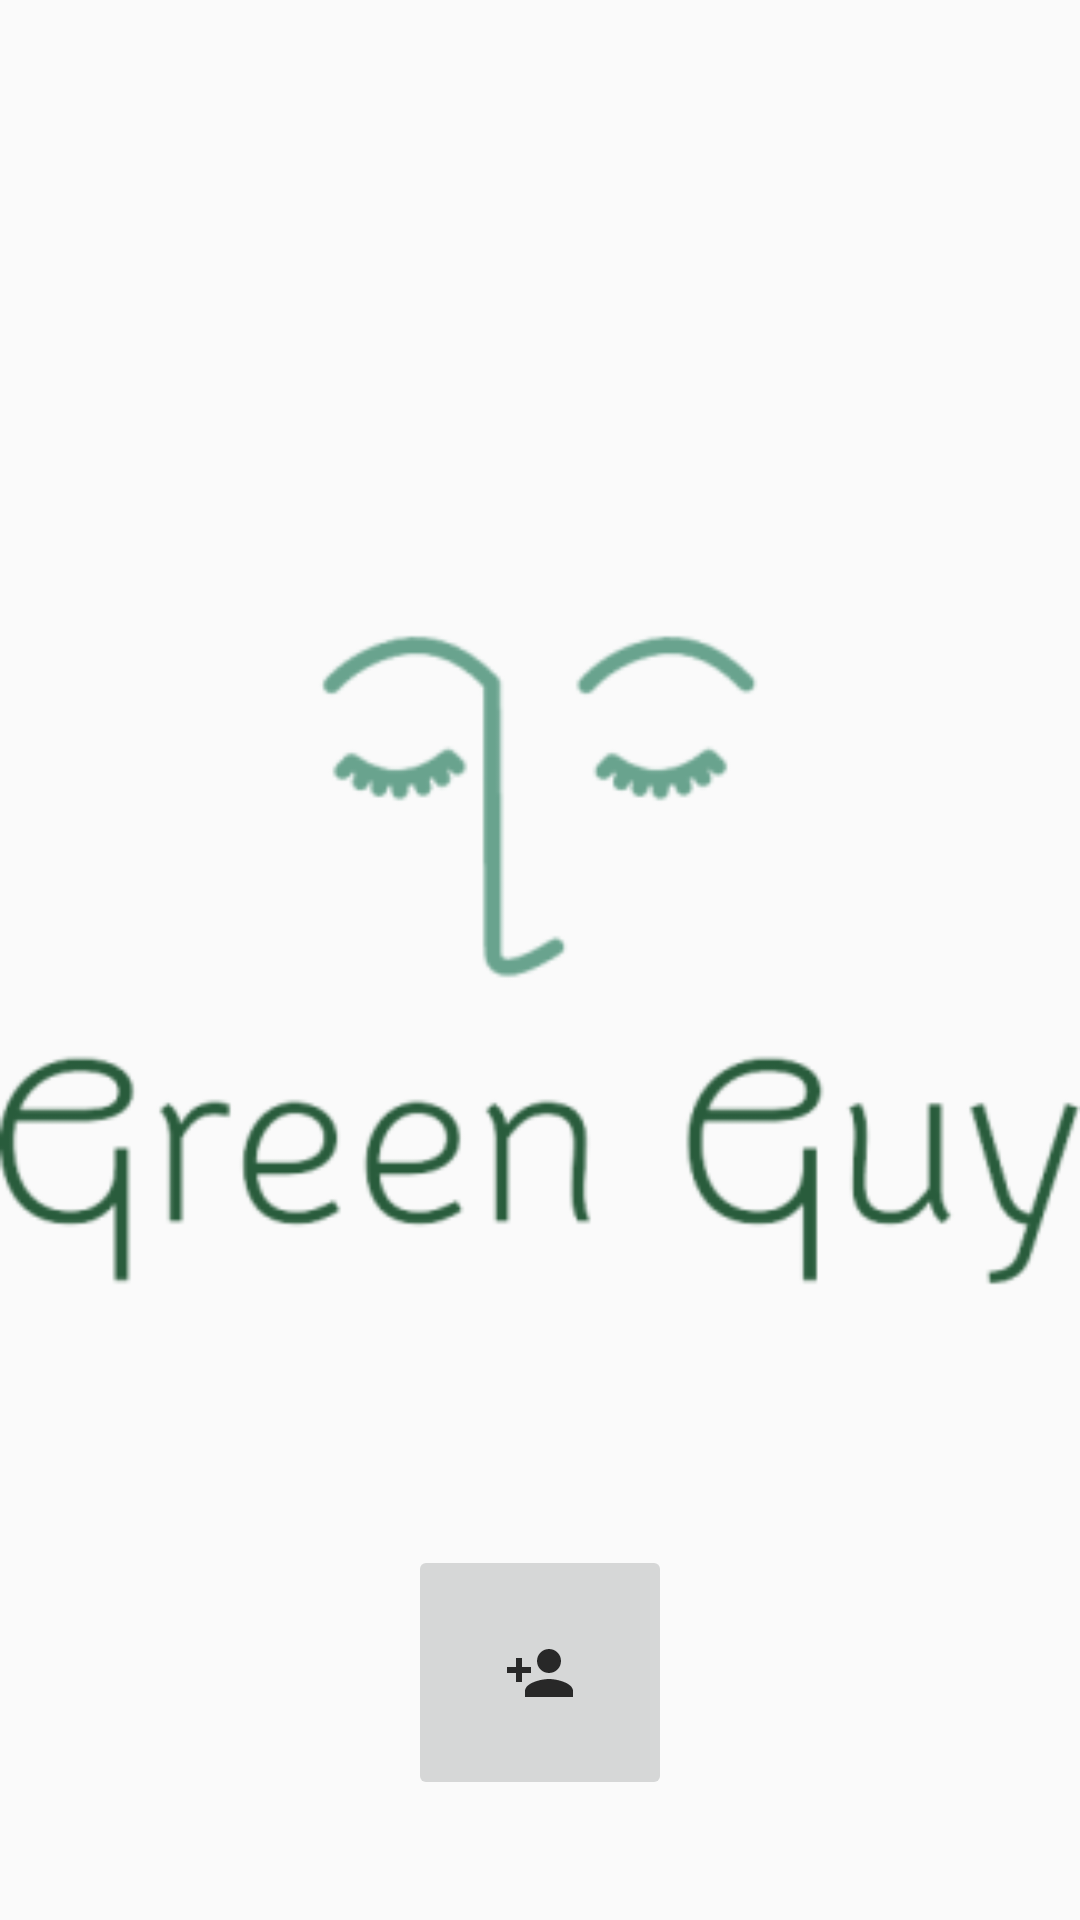

Screen size 1080px×1920px. Icon name, then its box in pixels as (x1, y1, x2, y2):
addfirend: (420, 1563, 660, 1782)
